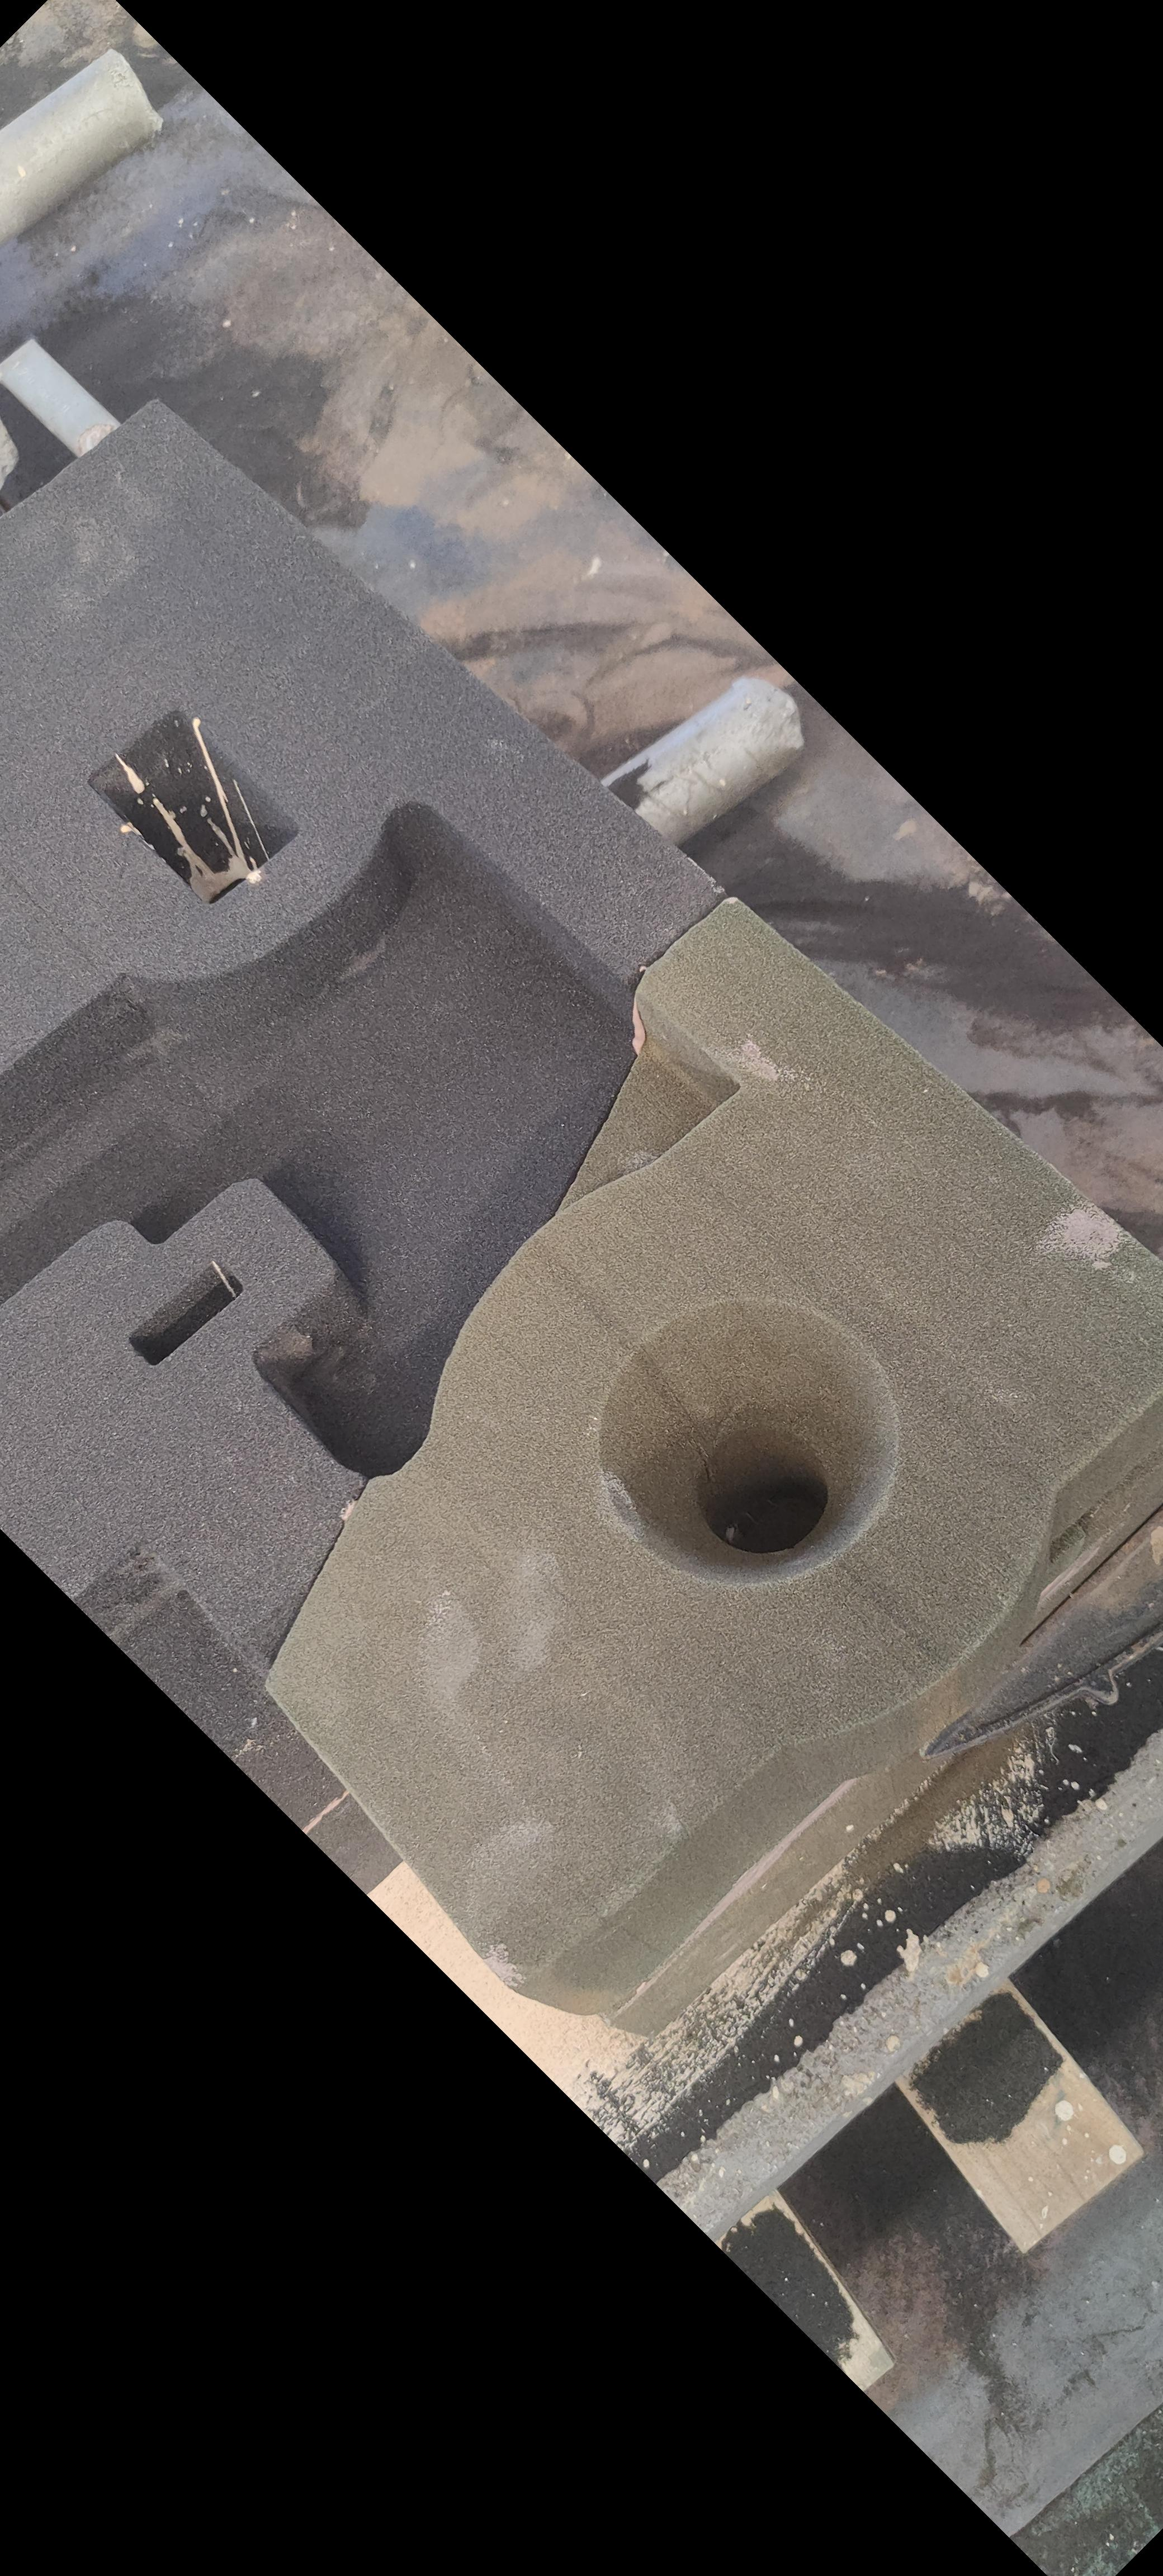pouring hole: (596, 1298, 903, 1587)
